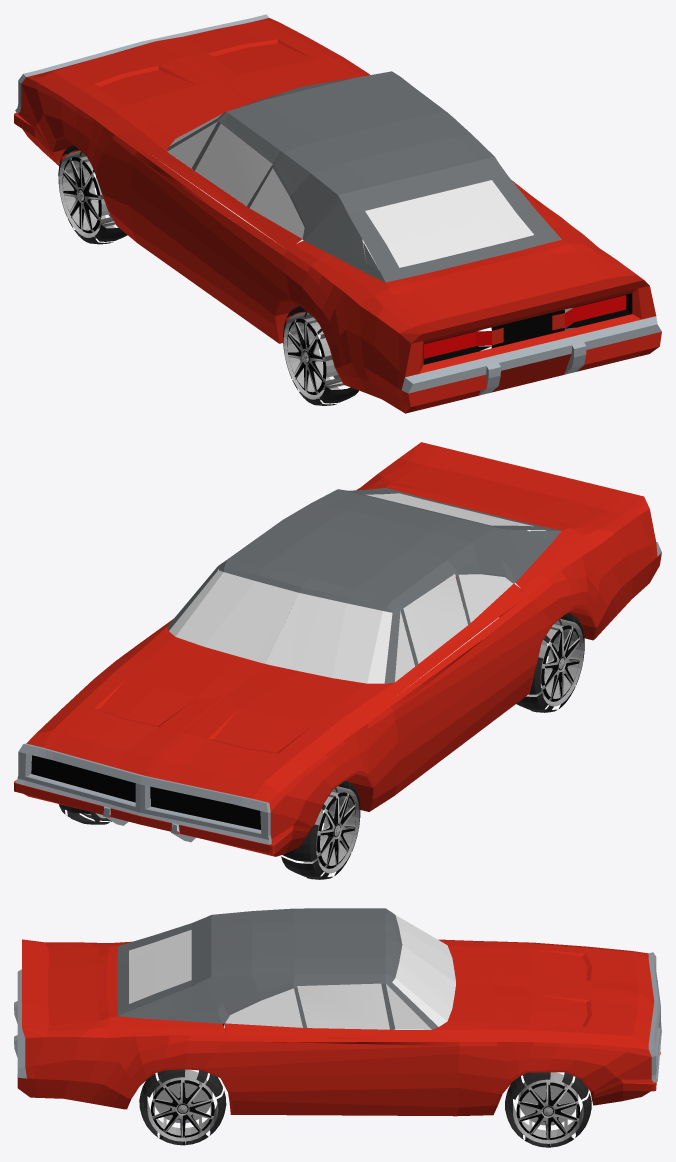
The model's file is charger.glb.
3 views of the same model, one above another, from view 1: azimuth 30°, elevation 25°; view 2: azimuth 150°, elevation 25°; view 3: azimuth 270°, elevation 25° (orthographic). The views are drawn at different scales.
Parts seen in each view (by area): view 1: Circle.004; view 2: Circle.004; view 3: Circle.004.
Part boxes in pixels (x1,y1,x2,y2): Circle.004: (14,14,661,413); Circle.004: (14,442,661,879); Circle.004: (14,908,661,1147).
Size of the model in its own units: 2.08 by 1.44 by 5.28.
